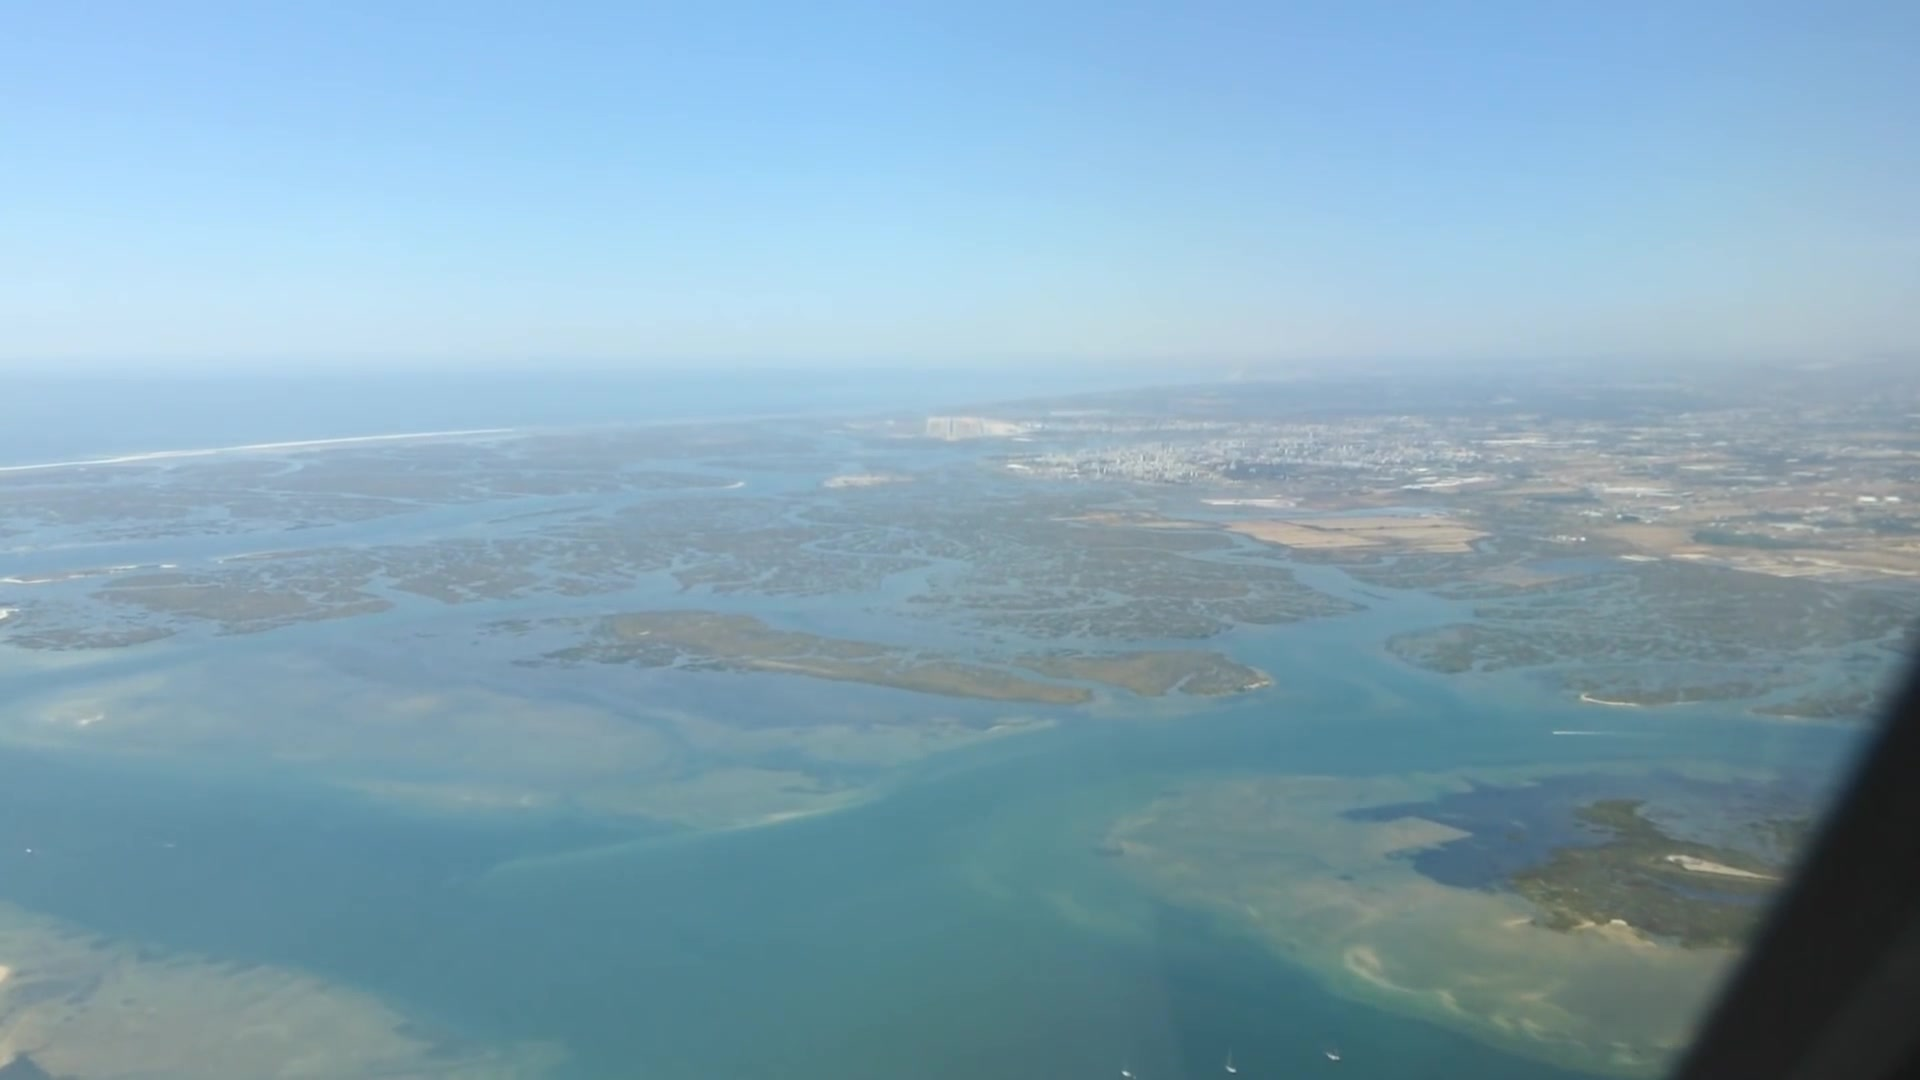runway: (944, 413, 957, 442), (976, 415, 986, 438)
